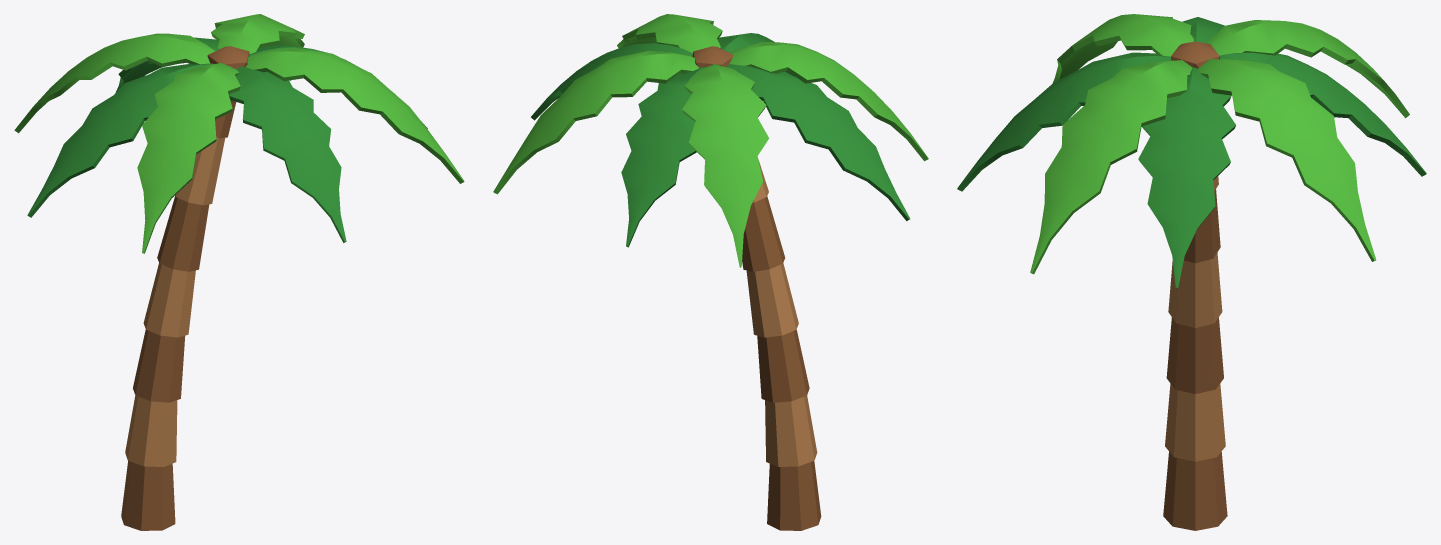
Rendered from palm_a.fbx.
The picture shows the model from 3 angles, left to right: view 1: azimuth 30°, elevation 25°; view 2: azimuth 150°, elevation 25°; view 3: azimuth 270°, elevation 25°; orthographic projection. The views are drawn at different scales.
Parts seen in each view (by area): view 1: palm_a; view 2: palm_a; view 3: palm_a.
Part boxes in pixels (x1,y1,x2,y2): palm_a: (14, 14, 464, 530); palm_a: (493, 14, 928, 530); palm_a: (957, 14, 1426, 530).
Size of the model in its own units: 2.15 by 2.4 by 1.96.
